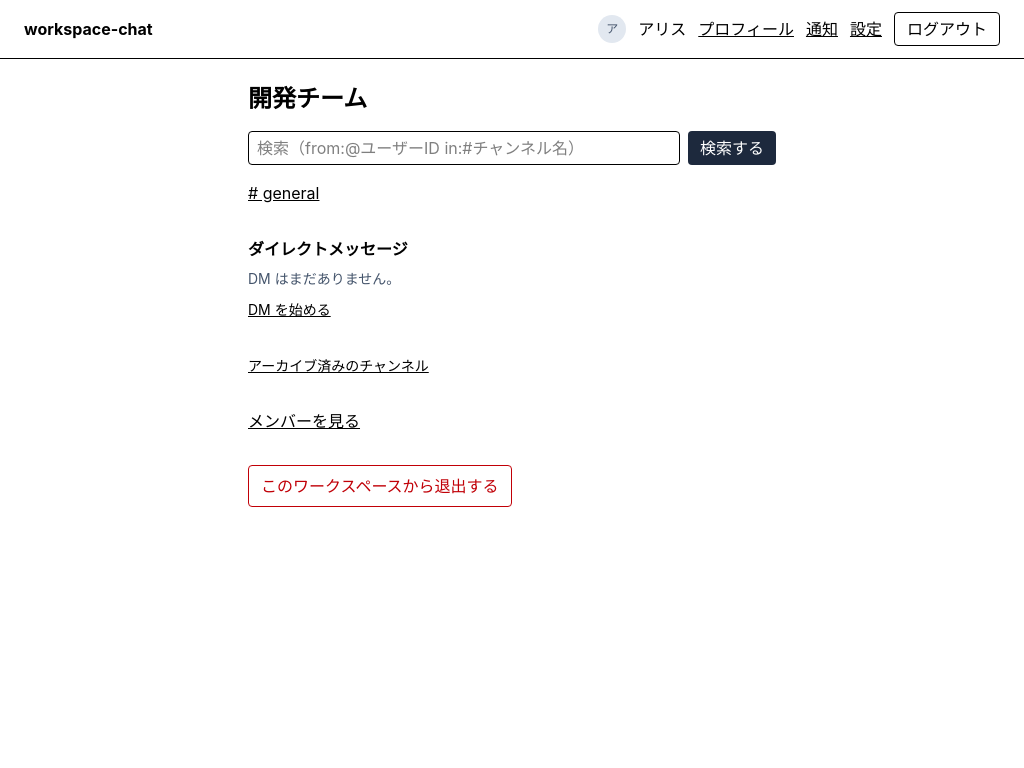
it: ワークスペースのメンバー（F-06・F-09） › 押すまで読まない。押すと参加した順に、表示名・ユーザーID・役割を出す
Click the button "メンバーを見る": (304, 421) [248,409,360,433]
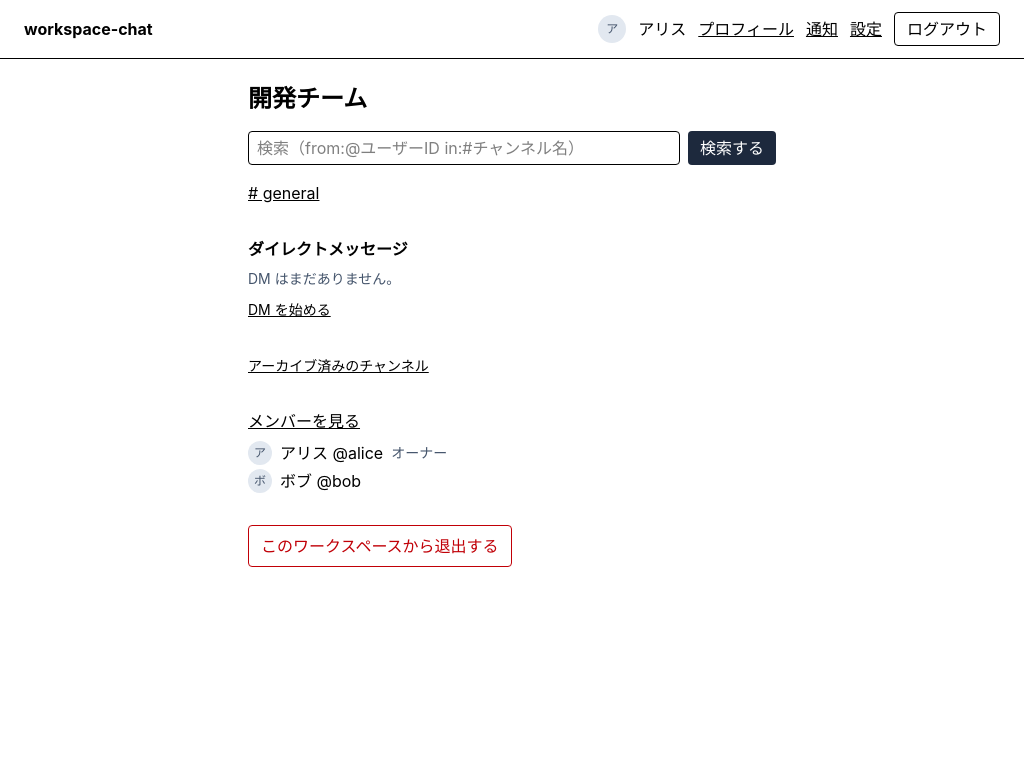
Expected: the list item "ア アリス @alice オーナー" is shown, [248,441,447,465]
Expected: the list item "ボ ボブ @bob" is shown, [248,469,361,493]
